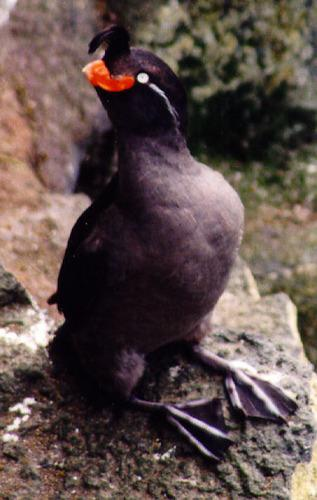005.Crested_Auklet: (44, 27, 298, 470)
